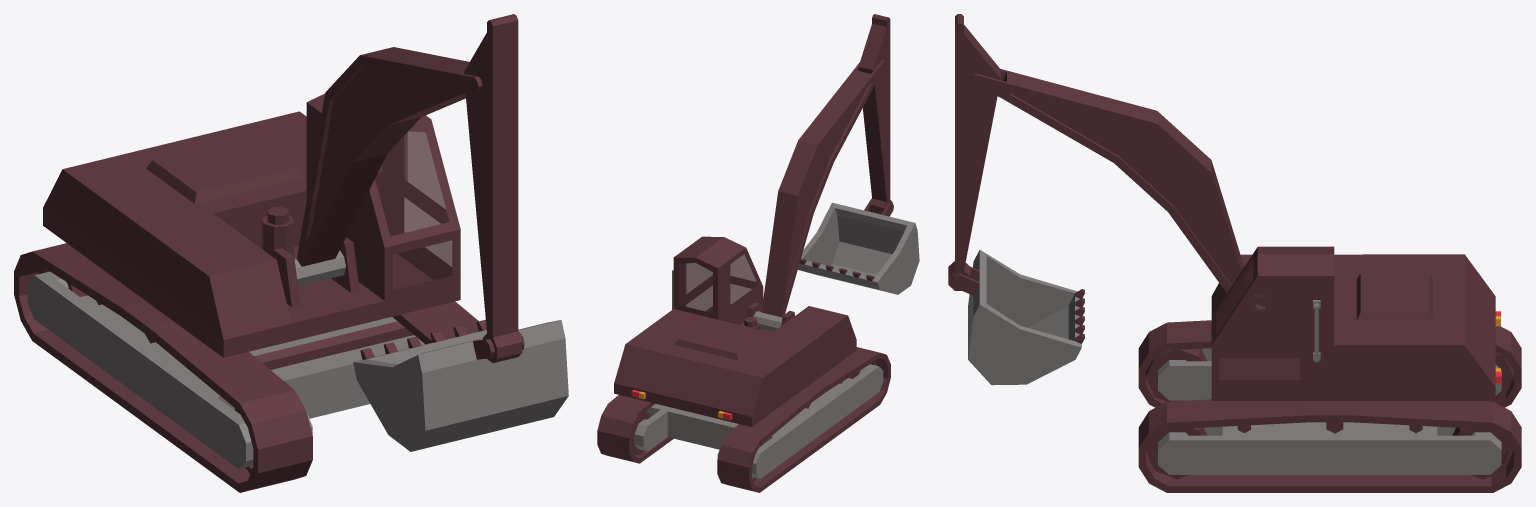
File: excavator.fbx
The picture shows the model from 3 angles, left to right: view 1: azimuth 30°, elevation 25°; view 2: azimuth 150°, elevation 25°; view 3: azimuth 270°, elevation 25°; orthographic projection. The views are drawn at different scales.
Visible parts, largest first — view 1: excavator-base, excavator-belt, excavator-bucket, excavator-chassis, excavator-arm-base, excavator-arm-top, excavator-wheel_TF; view 2: excavator-base, excavator-arm-base, excavator-belt, excavator-bucket, excavator-chassis, excavator-arm-top; view 3: excavator-base, excavator-belt, excavator-chassis, excavator-arm-base, excavator-bucket, excavator-arm-top, excavator-wheel_F, excavator-wheel_B.
Part boxes in pixels (<box>): excavator-base: <box>43,93,460,357</box>; excavator-belt: <box>14,243,478,492</box>; excavator-bucket: <box>353,319,568,451</box>; excavator-chassis: <box>27,271,424,468</box>; excavator-arm-base: <box>294,47,482,286</box>; excavator-arm-top: <box>463,14,522,363</box>; excavator-wheel_TF: <box>254,321,413,369</box>; excavator-base: <box>614,236,856,426</box>; excavator-arm-base: <box>753,59,886,331</box>; excavator-belt: <box>597,347,890,492</box>; excavator-bucket: <box>797,198,919,294</box>; excavator-chassis: <box>634,364,883,478</box>; excavator-arm-top: <box>858,14,892,214</box>; excavator-base: <box>1211,246,1500,400</box>; excavator-belt: <box>1138,320,1521,492</box>; excavator-chassis: <box>1158,348,1501,474</box>; excavator-arm-base: <box>971,69,1264,308</box>; excavator-bucket: <box>951,250,1084,385</box>; excavator-arm-top: <box>948,14,1000,290</box>; excavator-wheel_F: <box>1146,348,1207,479</box>; excavator-wheel_B: <box>1452,353,1513,479</box>.
Size of the model in its own units: 3.1 by 6.1 by 7.48.
